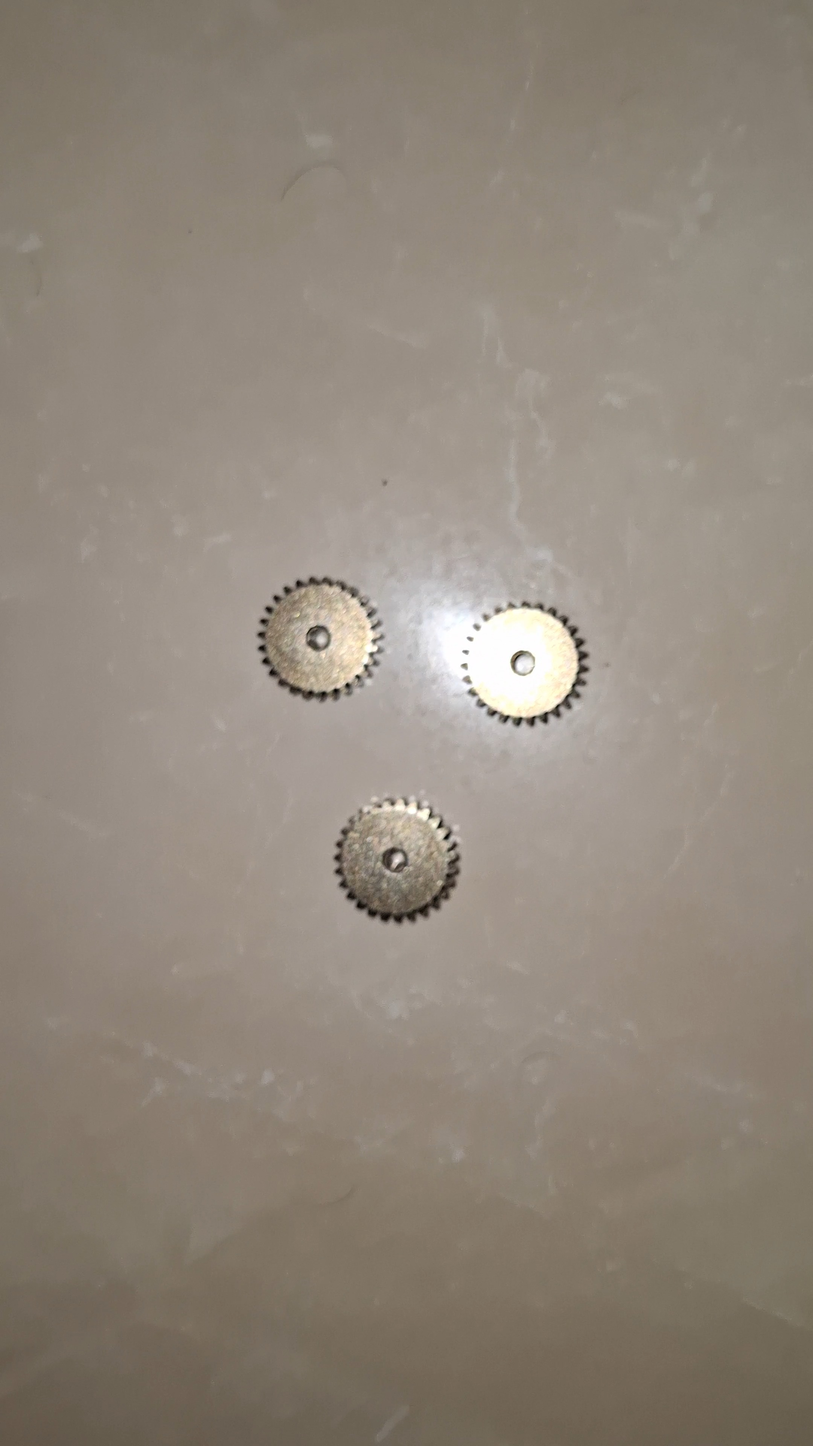spur gear: (348, 793, 469, 914), (475, 597, 597, 717), (268, 574, 391, 693)
